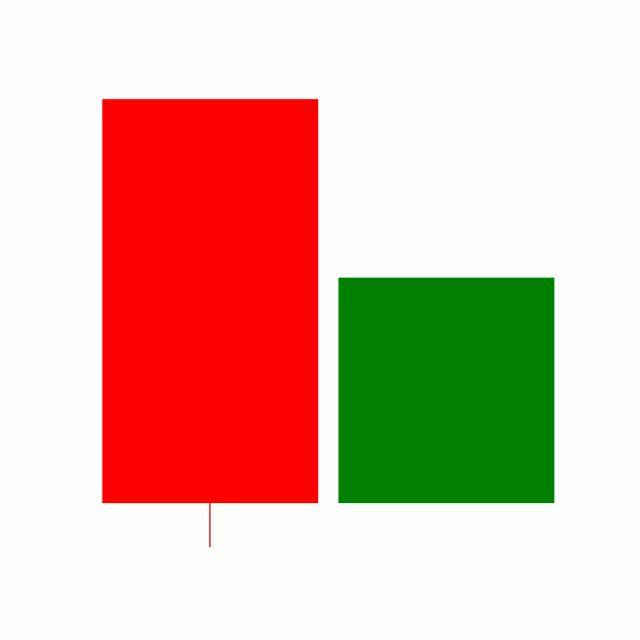Marubozu: (328, 275, 566, 506)
